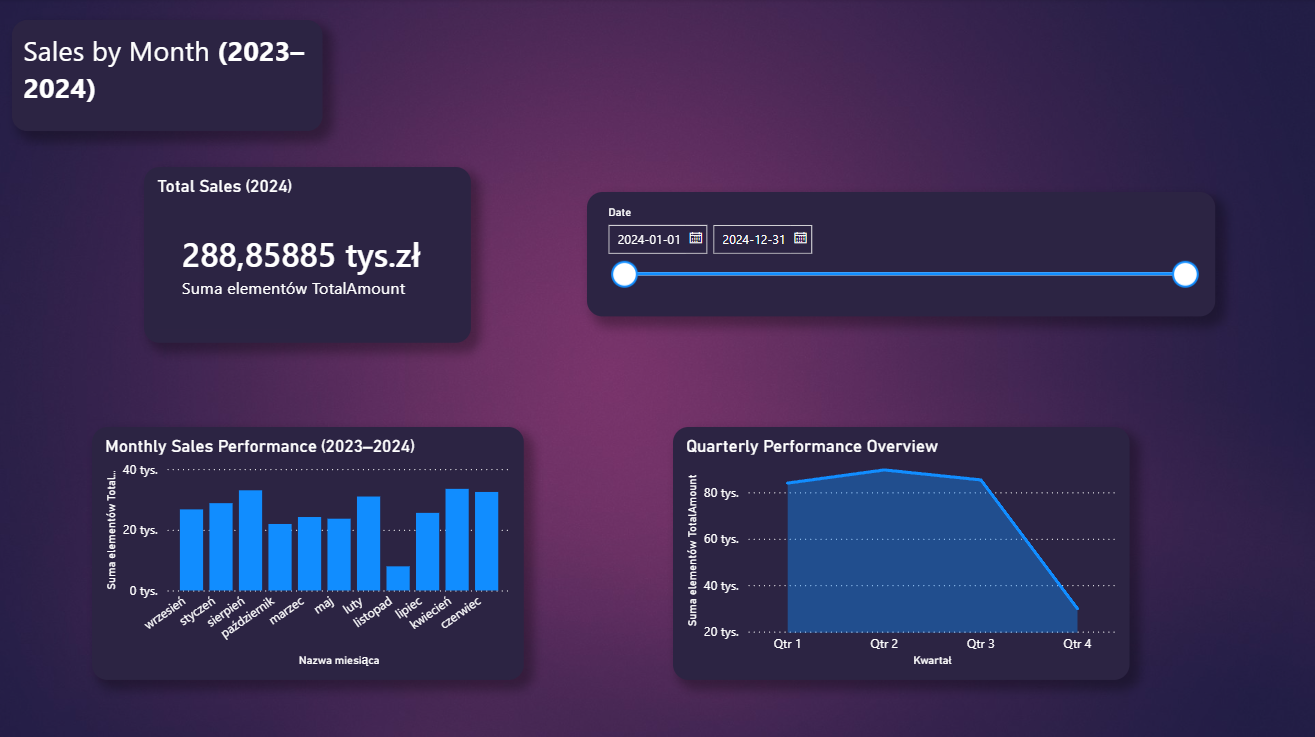

This screenshot's page, from the dashboard's own definition file:
{"tool":"powerbi","page":{"name":"Sales by Month (2023–2024)","canvas":[1280,720],"ordinal":0},"visuals":[{"type":"columnChart","title":"Monthly Sales Performance (2023–2024)","fields":{"Category":["DimDate.Nazwa miesiąca"],"Y":["Sum(FactSales.TotalAmount)"]},"box":[90,416,420,246],"z":0},{"type":"lineChart","title":"Quarterly Performance Overview","fields":{"Category":["DimDate.Date.Odmiana.Hierarchia dat.Kwartał","DimDate.Date.Odmiana.Hierarchia dat.Miesiąc","DimDate.Date.Odmiana.Hierarchia dat.Dzień"],"Y":["Sum(FactSales.TotalAmount)"]},"box":[656,416,444,246],"z":1000},{"type":"cardVisual","title":"Total Sales (2024)","fields":{"Data":["Sum(FactSales.TotalAmount)"]},"box":[141,163,318,171],"z":2000},{"type":"slicer","fields":{"Values":["DimDate.Date"]},"box":[572,188,611,121],"z":3000},{"type":"textbox","box":[13,20,302,108],"z":4000}]}

Visuals, with their boxes in screenshot pixels (x1, y1, x2, y2), scaled from the page's 1280x720 canvas onto the 1315x737 screenshot:
"Monthly Sales Performance (2023–2024)" columnChart: {"x1": 92, "y1": 426, "x2": 524, "y2": 678}
"Quarterly Performance Overview" lineChart: {"x1": 674, "y1": 426, "x2": 1130, "y2": 678}
"Total Sales (2024)" cardVisual: {"x1": 145, "y1": 167, "x2": 472, "y2": 342}
slicer - DimDate.Date: {"x1": 588, "y1": 192, "x2": 1215, "y2": 316}
textbox: {"x1": 13, "y1": 20, "x2": 324, "y2": 131}
